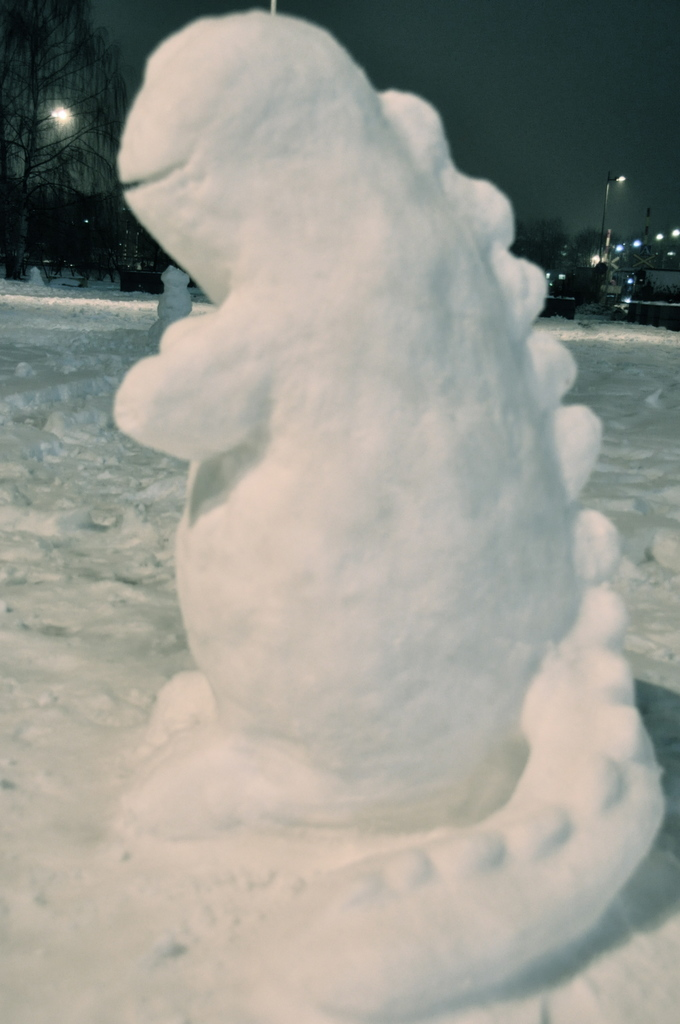Tree: (0, 0, 131, 275)
